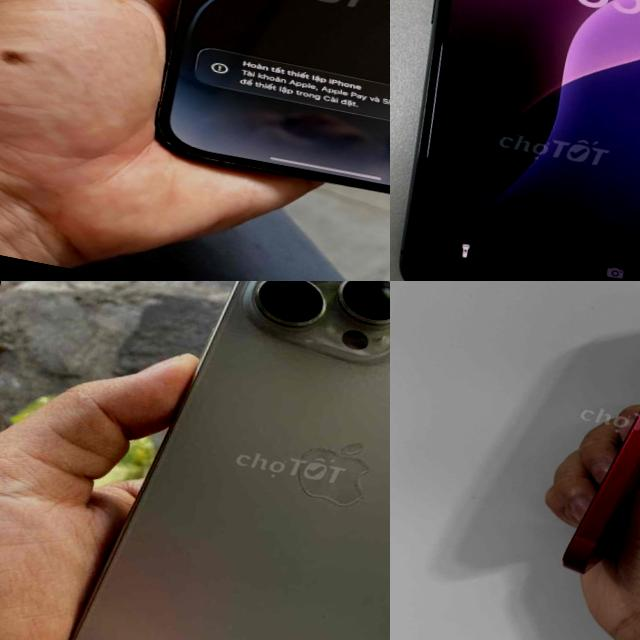scratch: (455, 50, 536, 106)
